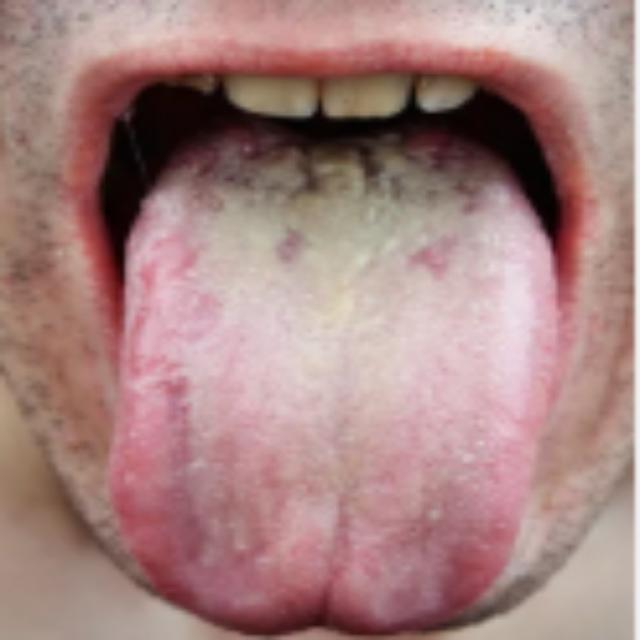leukoplakia-like-detection: (180, 133, 494, 402)
processing_area: (112, 131, 542, 624)
